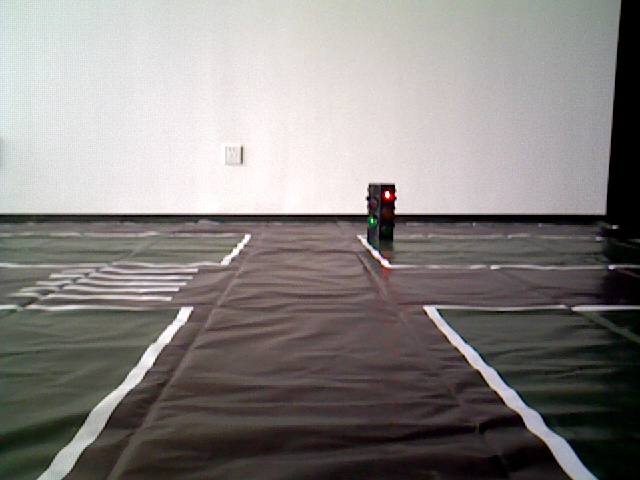red: (367, 184, 394, 247)
